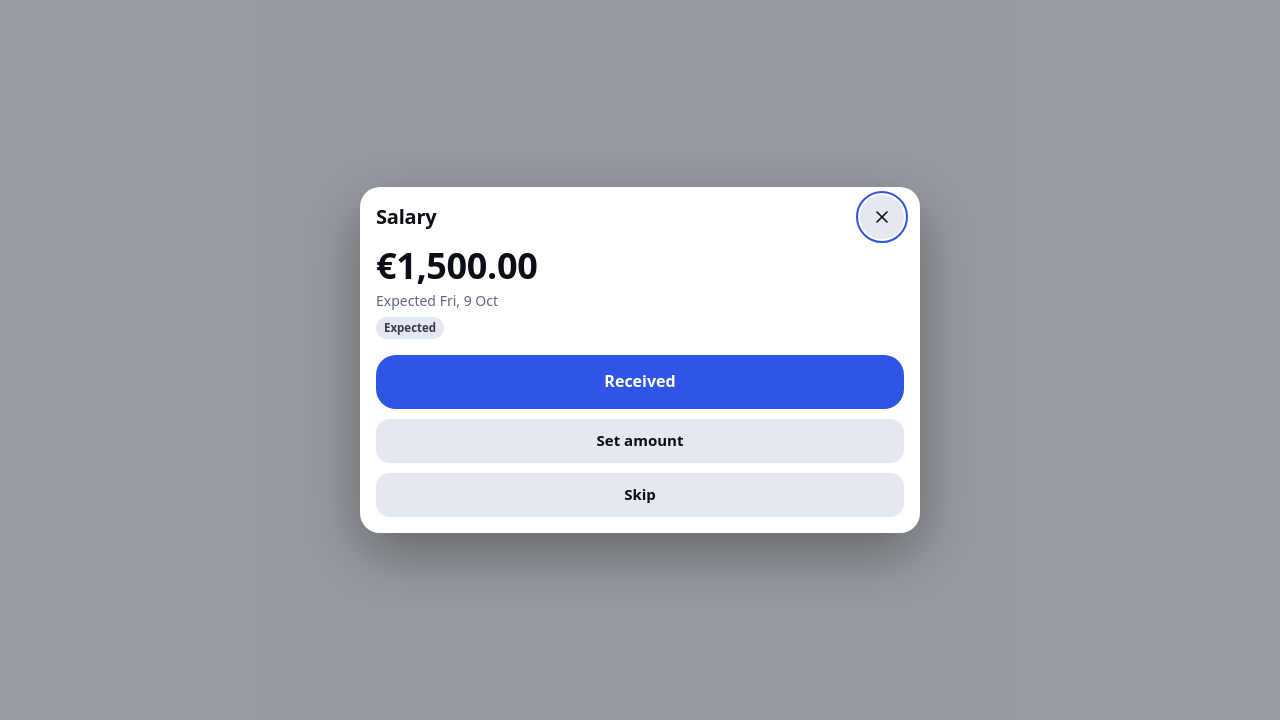
Test: expected in entry: Received, "Received by" and transfer by default
The image size is (1280, 720).
Click the button "Received".
click(640, 382)  # box x1=376 y1=355 x2=904 y2=409
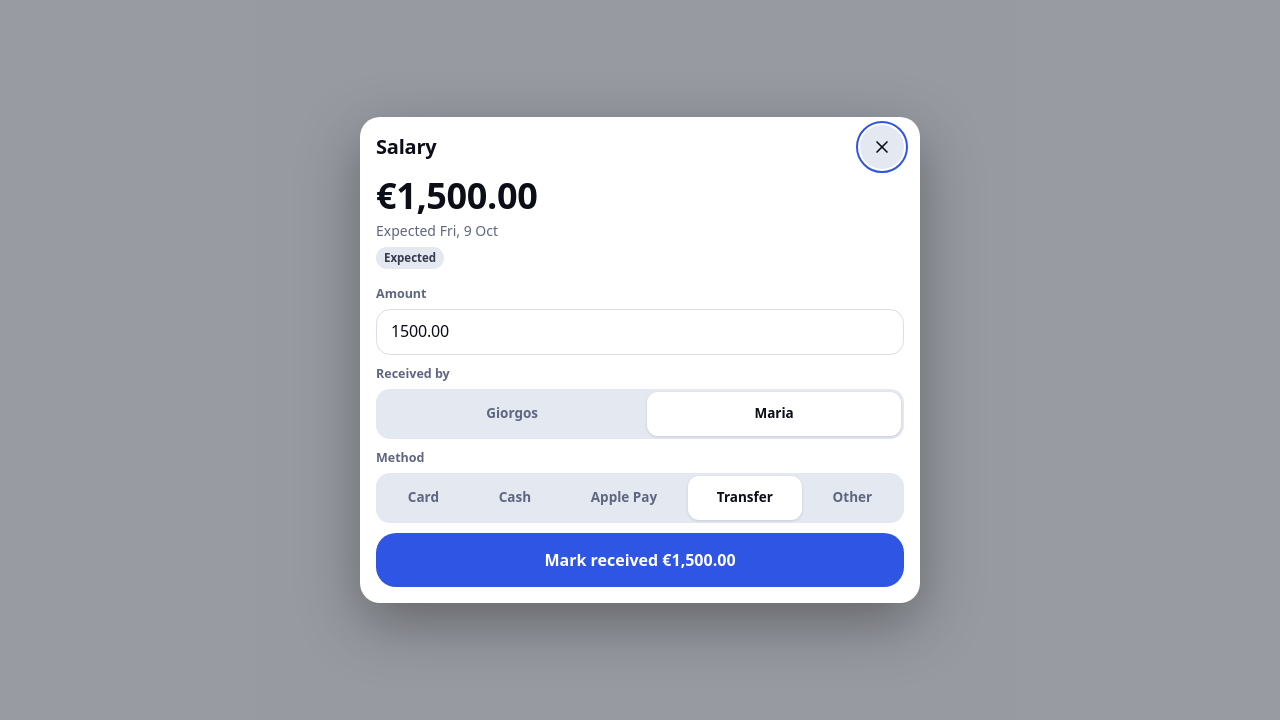
Expected: the element named "Received by" is shown, x1=376 y1=389 x2=904 y2=439
Expected: the button "Mark received €1,500.00" is enabled, x1=376 y1=533 x2=904 y2=587
